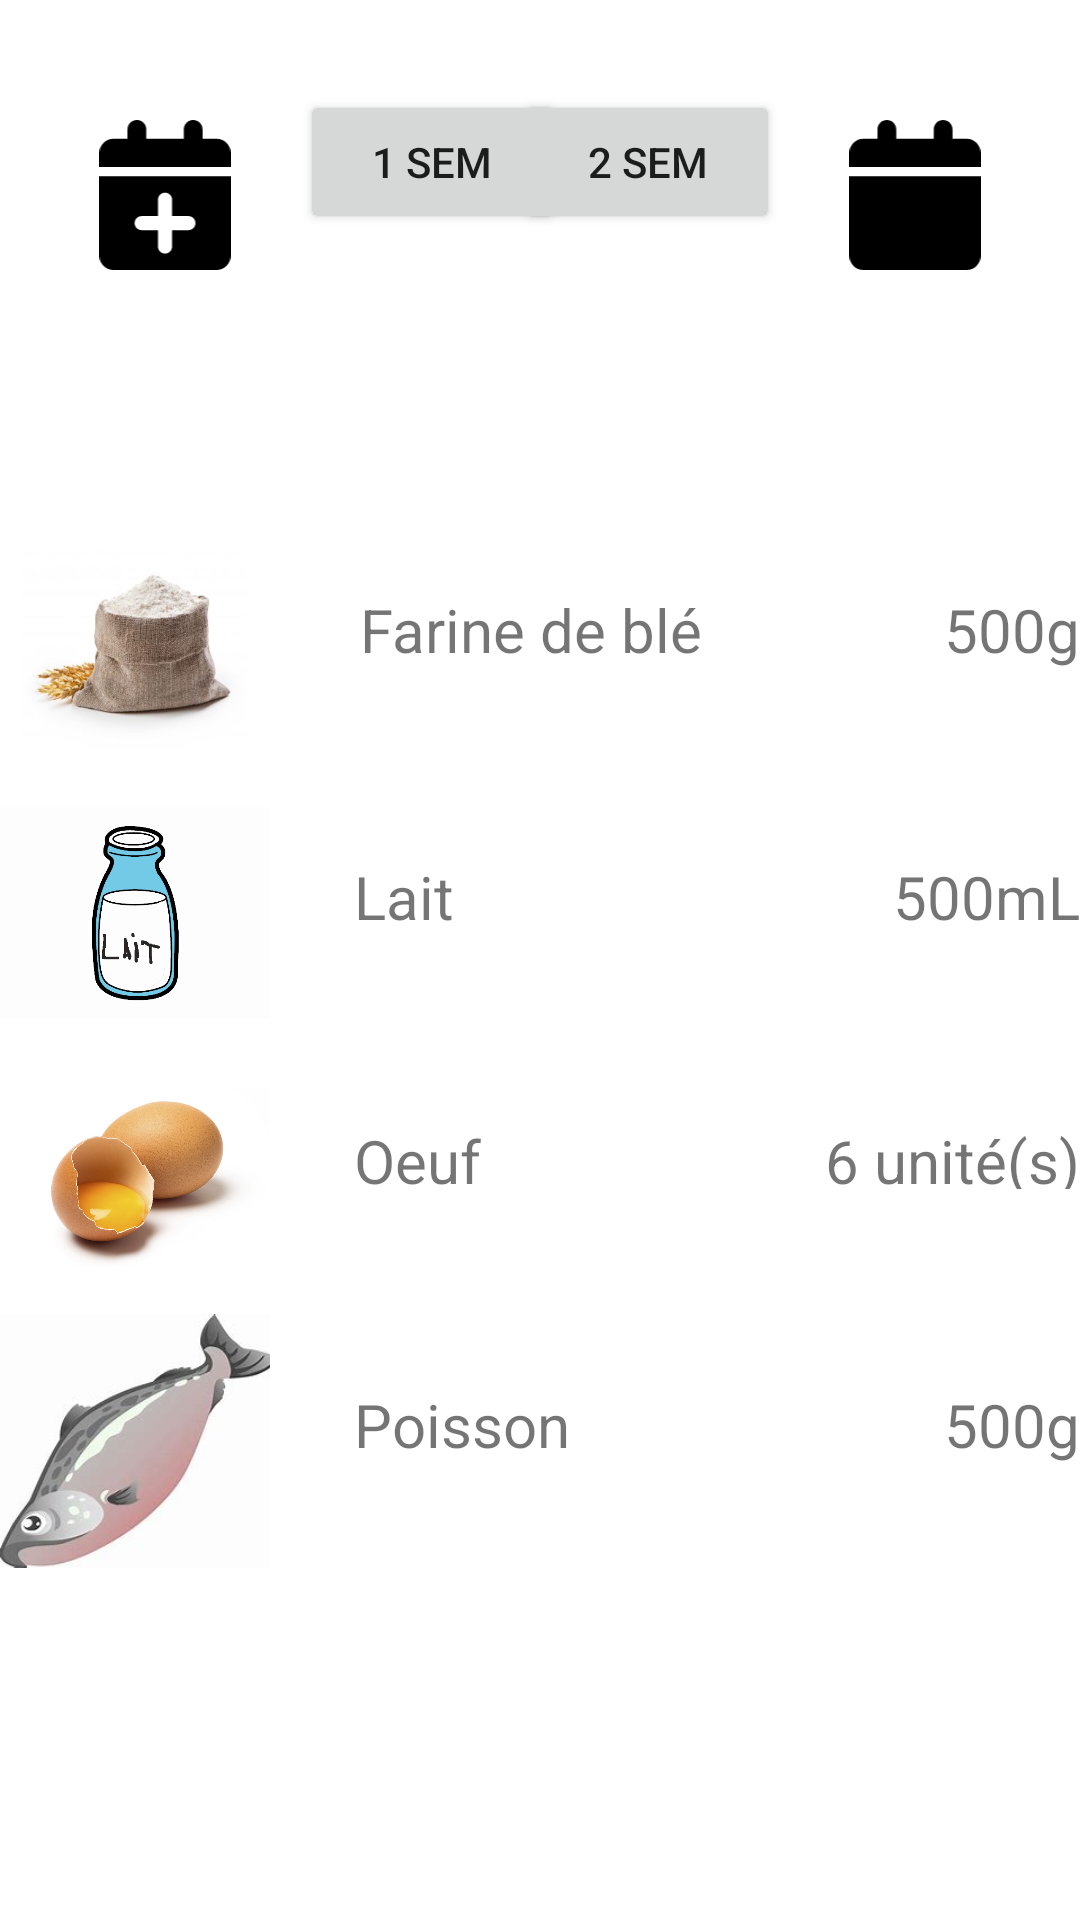

Screen size 1080×1920. Icon name, then its box in pixels as (x1, y1, x2, y2):
calendar: (849, 120, 981, 270)
calendar plus: (99, 120, 231, 270)
farine de ble: (36, 575, 230, 721)
